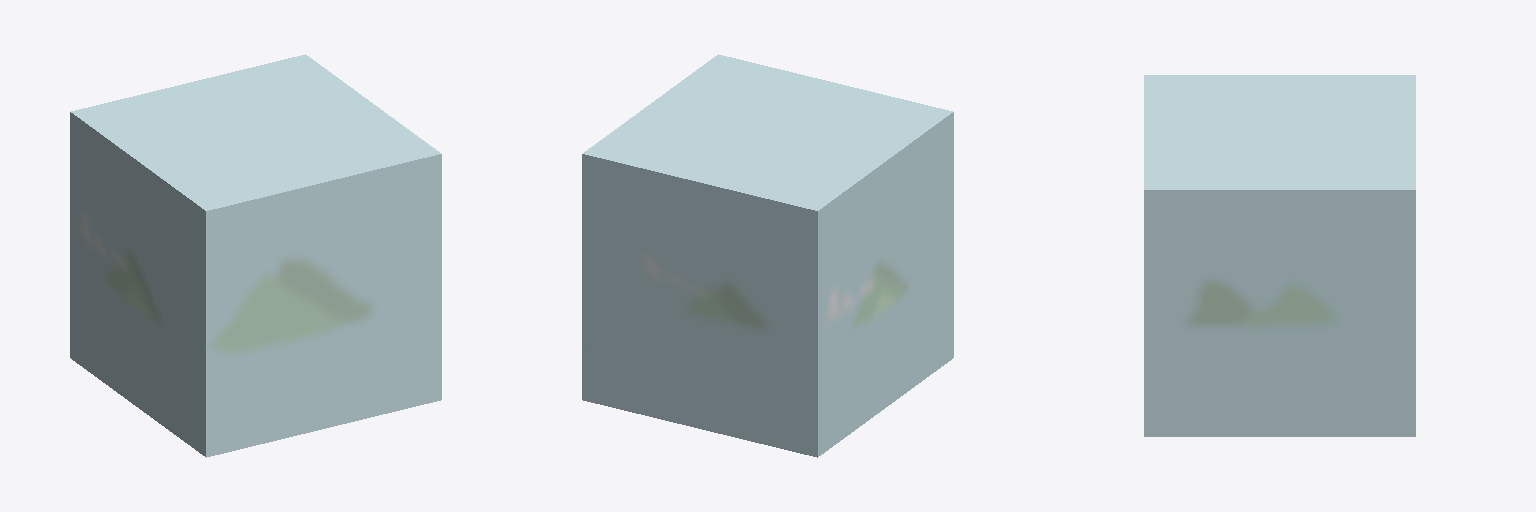
3 renders of one model, left to right at view 1: azimuth 30°, elevation 25°; view 2: azimuth 150°, elevation 25°; view 3: azimuth 270°, elevation 25°, orthographic.
Parts seen in each view (by area): view 1: Cube; view 2: Cube; view 3: Cube.
Boxes of the visible parts, x1,y1,x2,y2 form: Cube: [70, 54, 441, 457]; Cube: [582, 54, 953, 457]; Cube: [1144, 75, 1415, 436].
Size of the model in its own units: 2 by 2 by 2.
Materials: 1 (1 with a texture image).